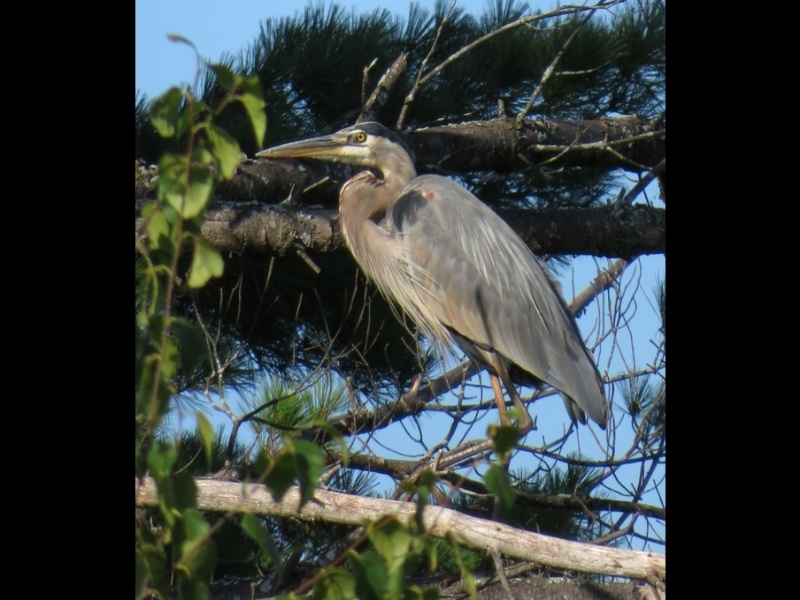heron: (247, 121, 615, 491)
